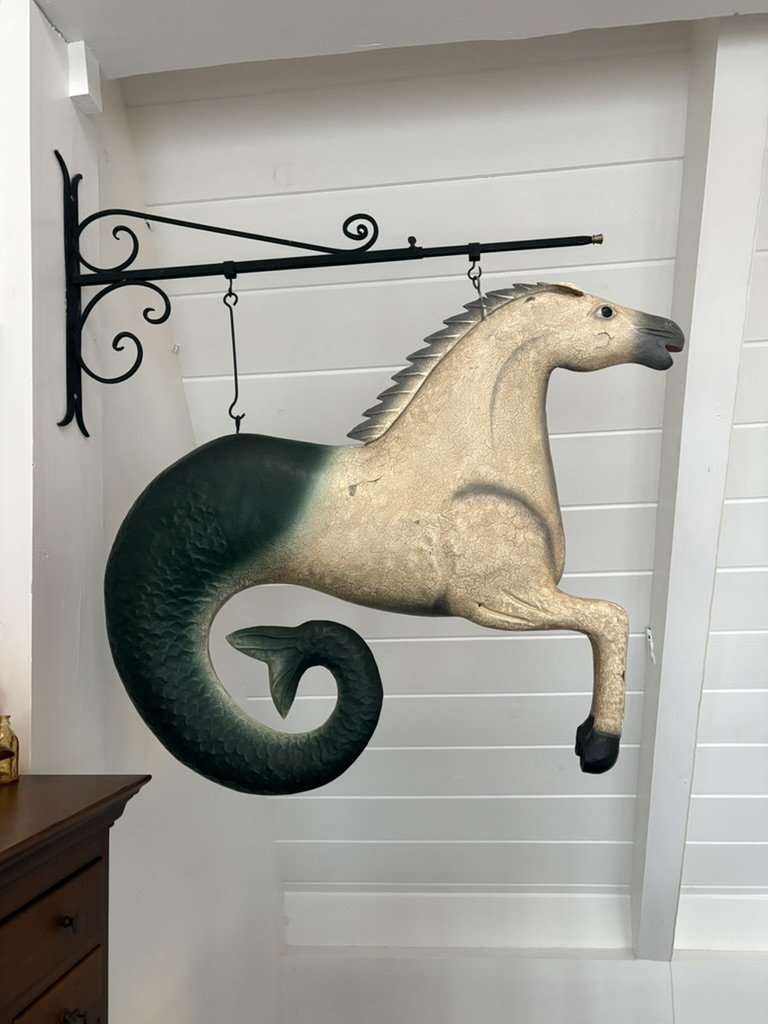box: (99, 277, 686, 799)
